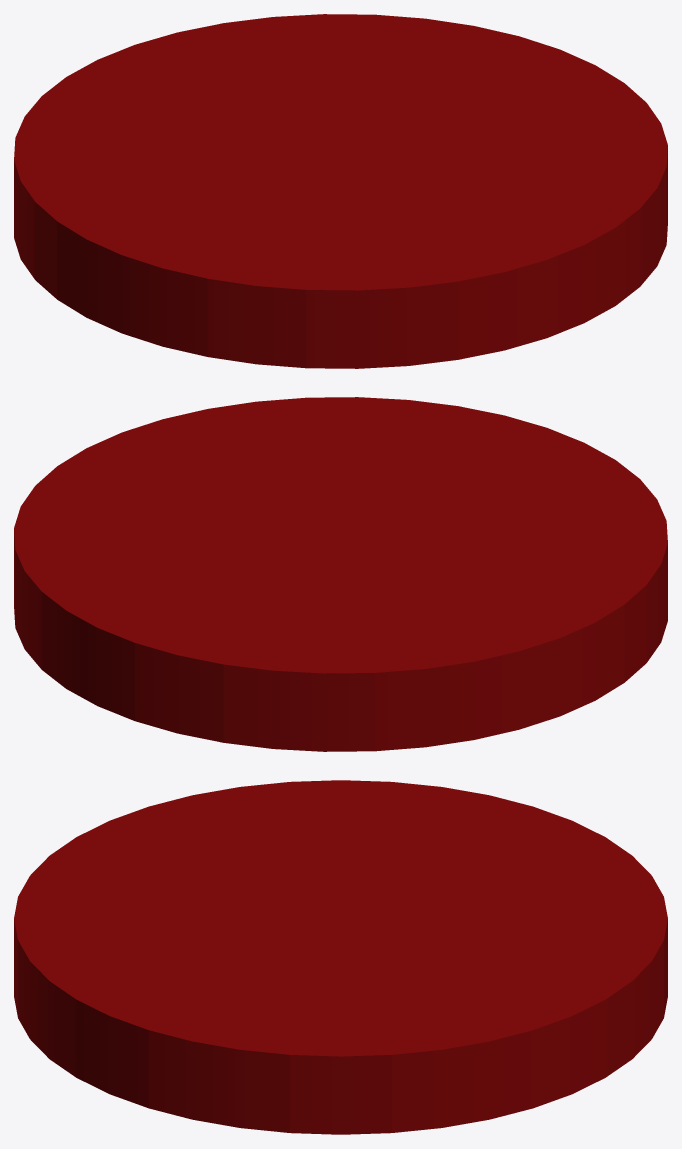
The model's file is original-22.obj.
3 renders of one model, top to bottom at view 1: azimuth 30°, elevation 25°; view 2: azimuth 150°, elevation 25°; view 3: azimuth 270°, elevation 25°, orthographic.
Visible parts, largest first — view 1: Group_46/mesh22/mesh22-geometry#mesh22-geometry; view 2: Group_46/mesh22/mesh22-geometry#mesh22-geometry; view 3: Group_46/mesh22/mesh22-geometry#mesh22-geometry.
Part boxes in pixels (<box>): Group_46/mesh22/mesh22-geometry#mesh22-geometry: <box>14,14,667,368</box>; Group_46/mesh22/mesh22-geometry#mesh22-geometry: <box>14,397,667,751</box>; Group_46/mesh22/mesh22-geometry#mesh22-geometry: <box>14,780,667,1134</box>.
Size of the model in its own units: 0.0606 by 0.00799 by 0.0606.
